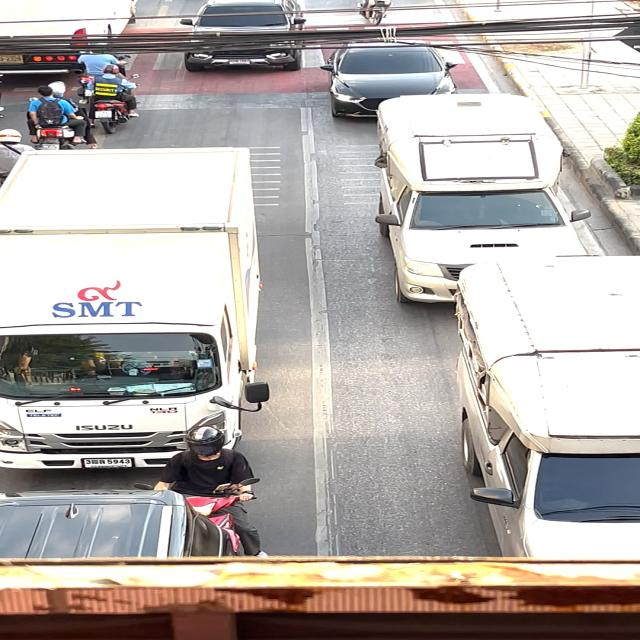car: (0, 140, 279, 487), (448, 256, 640, 564), (356, 82, 604, 305), (318, 34, 473, 131), (172, 0, 310, 77)
